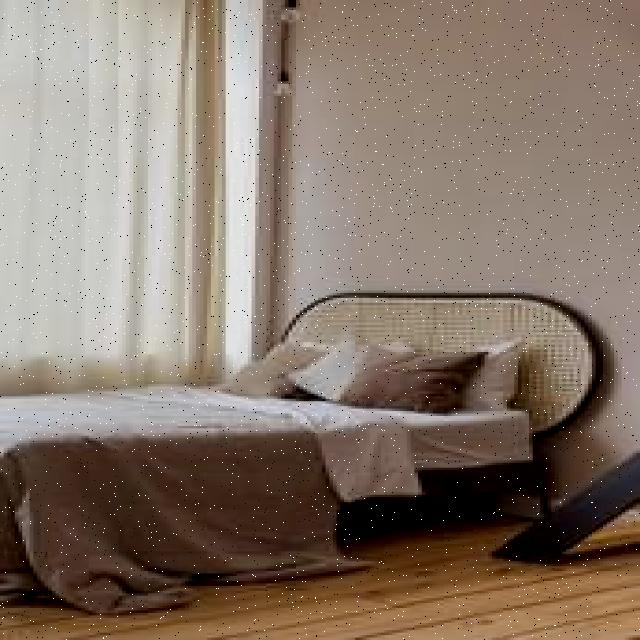bed: (0, 310, 562, 590)
